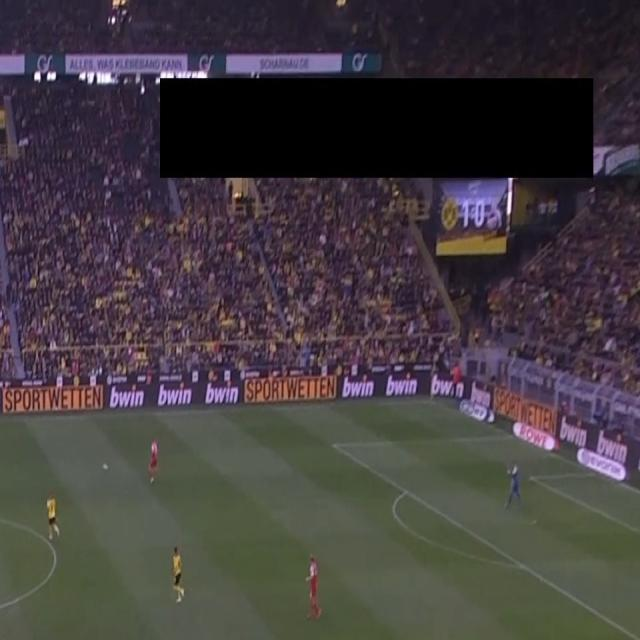ball: (101, 462, 109, 473)
